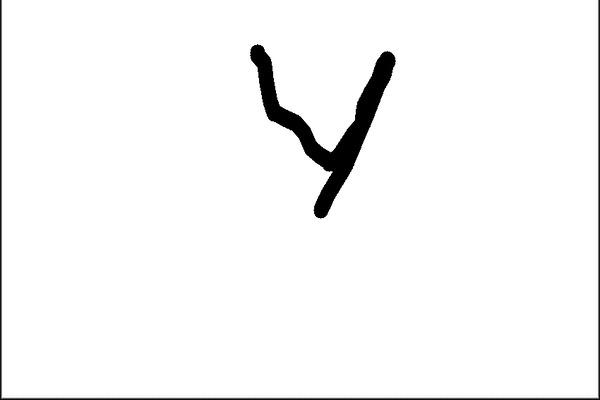Y: (234, 34, 406, 246)
